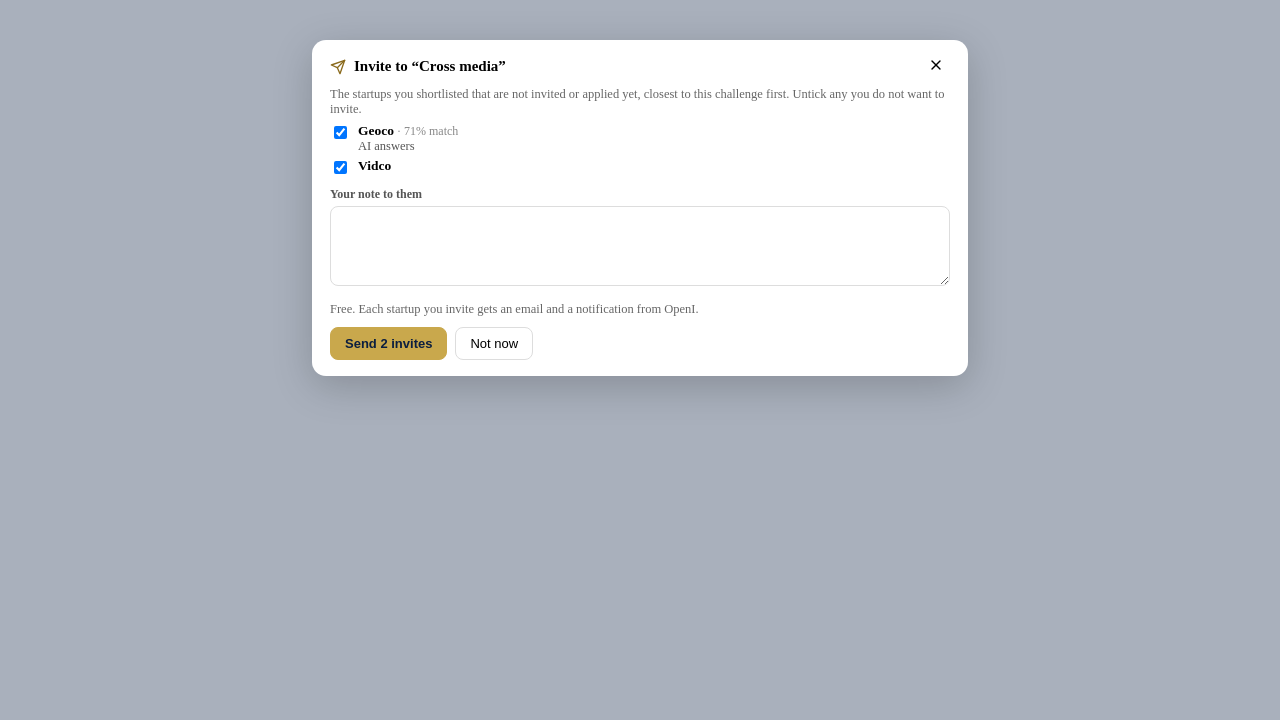
Test: A4b — InviteShortlisted › a refused send shows why
The image size is (1280, 720).
Step 1. Click the button with test id "invite-send" → (389,344), box [330,327,447,360]
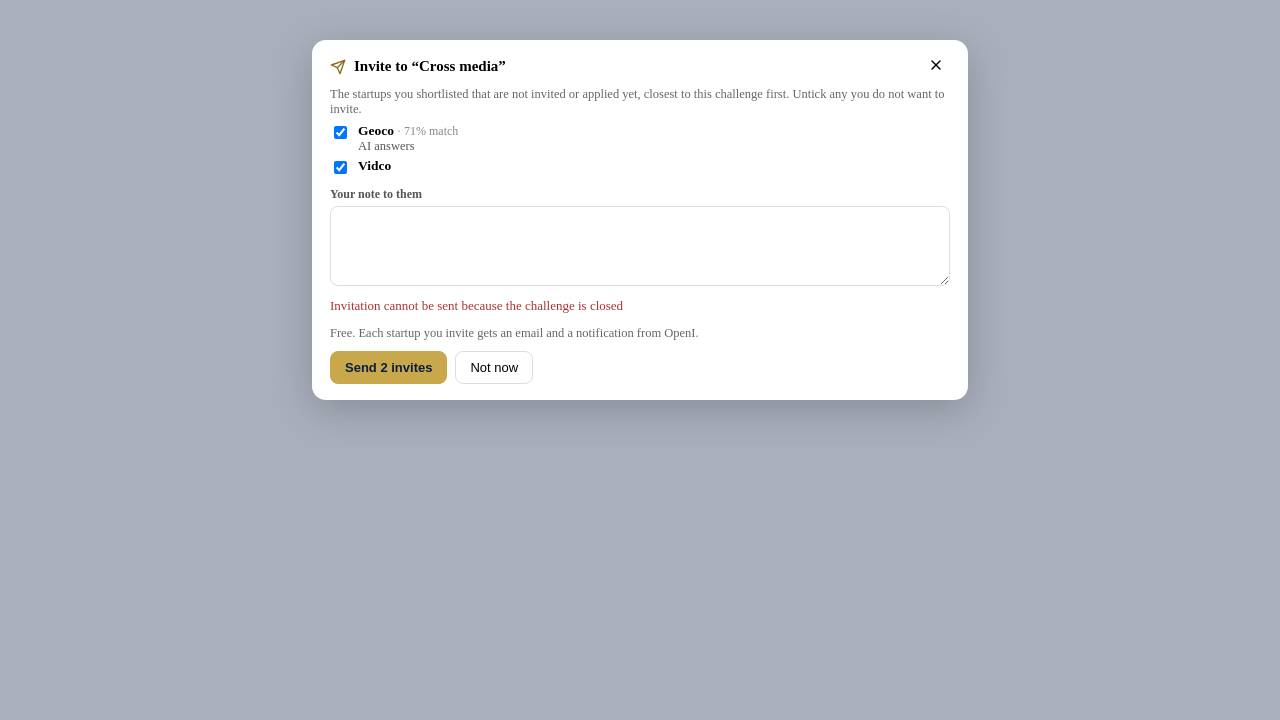
Expected: the message with test id "invite-error" reads "Invitation cannot be sent because the challenge is closed", [330,298,623,313]
